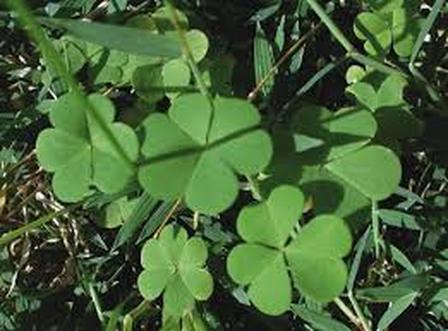oxalis: (49, 57, 415, 307)
